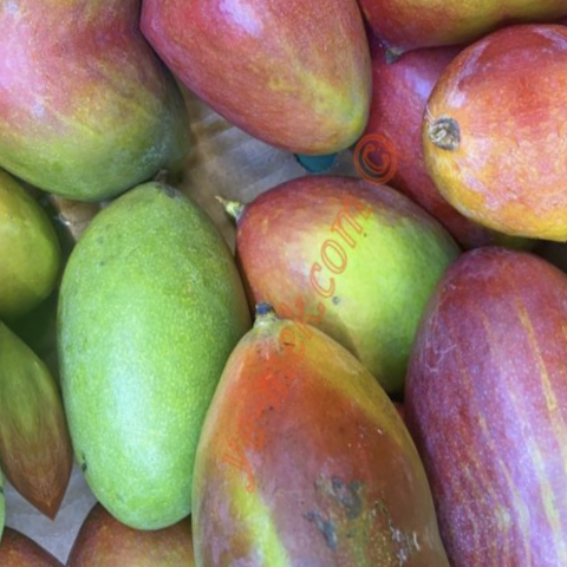mango: (0, 127, 306, 564), (189, 96, 497, 436), (121, 265, 458, 567), (340, 176, 567, 540)
